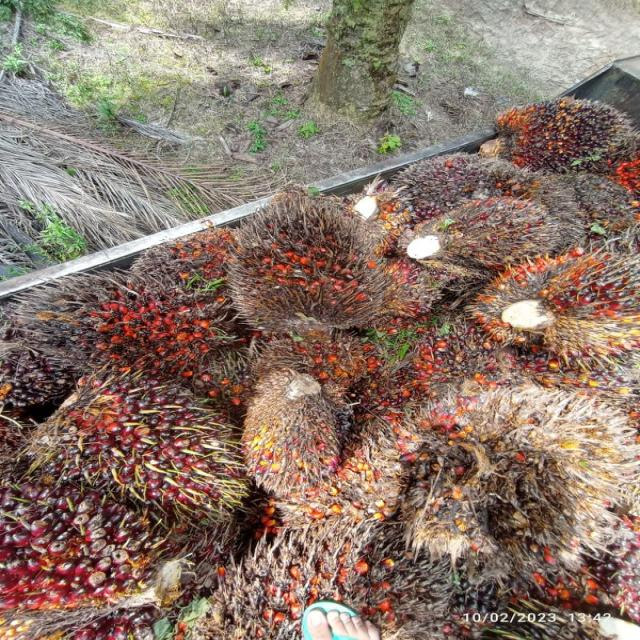fraksi 00: (479, 82, 640, 186), (423, 184, 568, 274), (391, 140, 541, 215), (0, 315, 82, 429)
fraksi 1: (36, 360, 262, 525), (0, 484, 212, 639), (238, 361, 372, 498)
fraksi 3: (468, 224, 640, 376)
fraksi 4: (227, 176, 401, 337), (66, 286, 230, 372), (157, 222, 253, 286)
